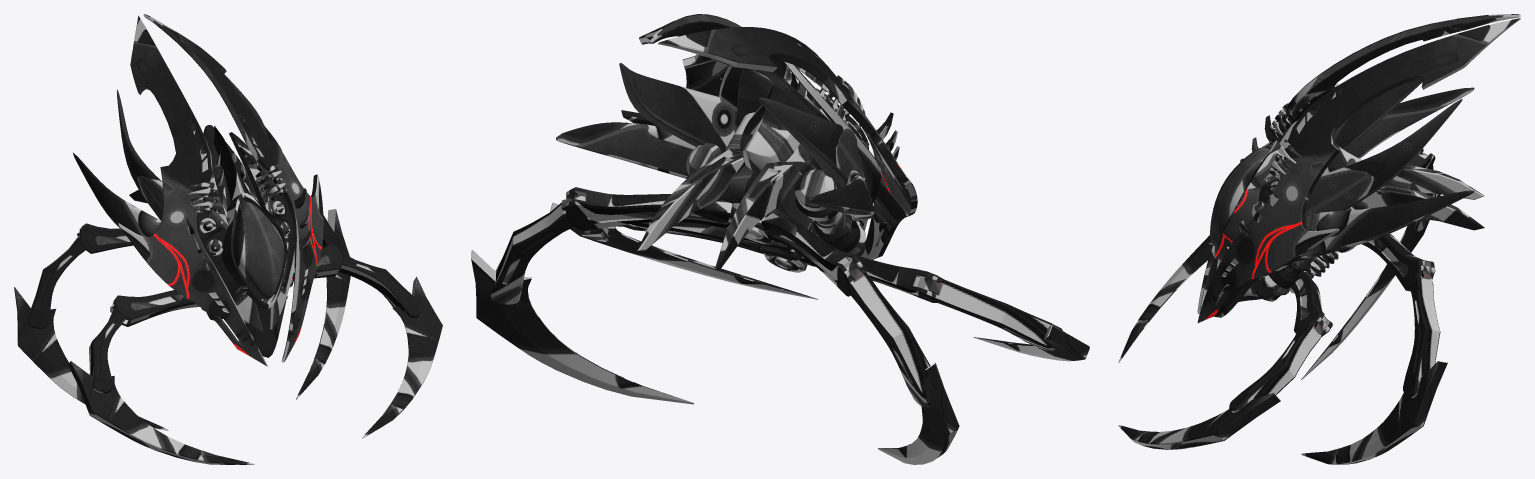
File: uploads_files_4495465_Evil_mech_01(FBX).fbx
3 renders of one model, left to right at view 1: azimuth 30°, elevation 25°; view 2: azimuth 150°, elevation 25°; view 3: azimuth 270°, elevation 25°, orthographic. The views are drawn at different scales.
Visible parts, largest first — view 1: Evil_mech_01_poly; view 2: Evil_mech_01_poly; view 3: Evil_mech_01_poly.
Part boxes in pixels (box(x1,y1,x2,y2)): Evil_mech_01_poly: box(14, 14, 442, 464); Evil_mech_01_poly: box(471, 14, 1089, 464); Evil_mech_01_poly: box(1118, 14, 1520, 464).
Size of the model in its own units: 773 by 701 by 637.
